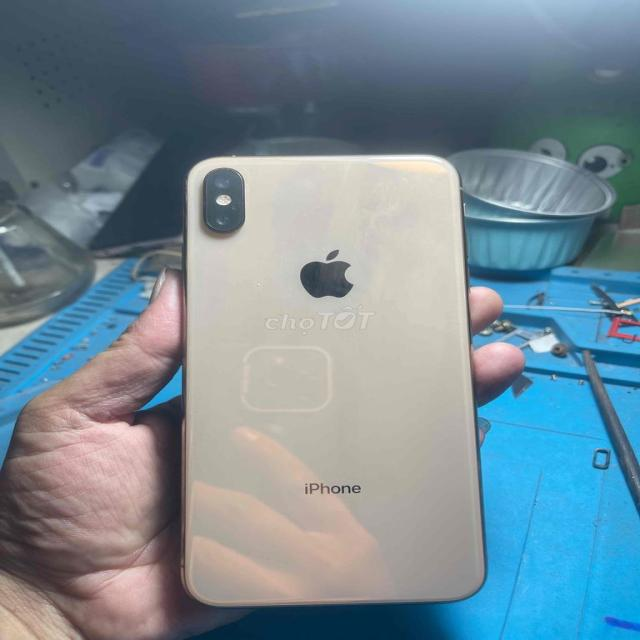gen_x_xs: (166, 148, 494, 620)
